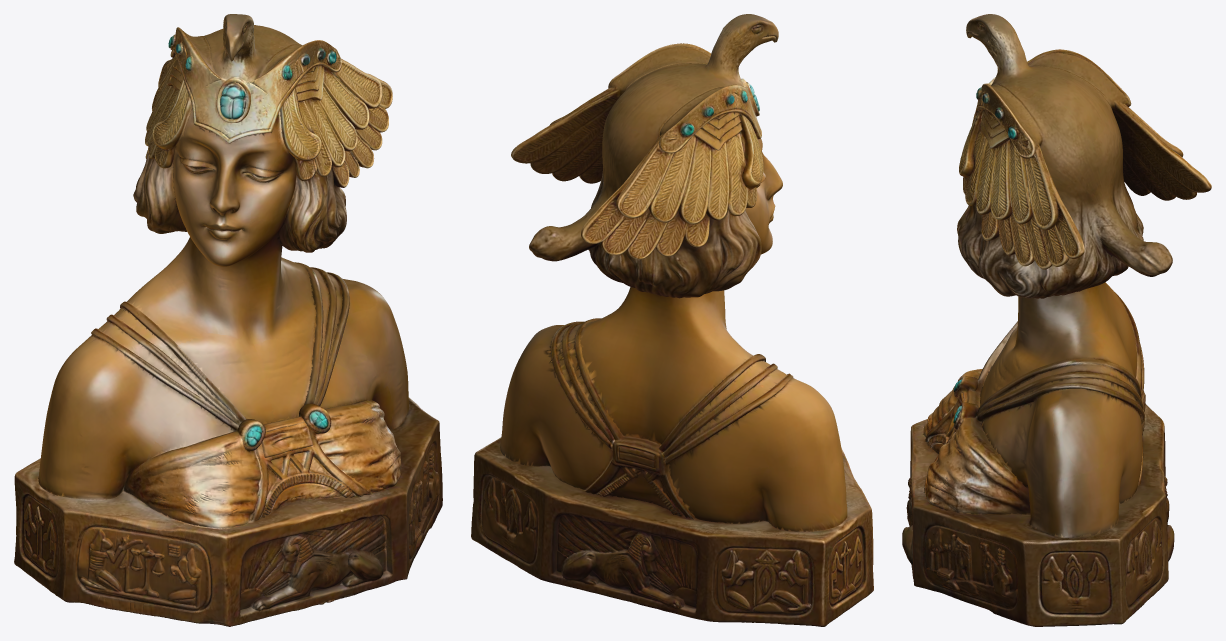
File: cleopatra_art_noveau_sculpture.glb
The picture shows the model from 3 angles, left to right: view 1: azimuth 30°, elevation 25°; view 2: azimuth 150°, elevation 25°; view 3: azimuth 270°, elevation 25°; orthographic projection. The views are drawn at different scales.
Parts seen in each view (by area): view 1: Object_4; view 2: Object_4; view 3: Object_4.
Part boxes in pixels (bbox=[...]): Object_4: bbox=[14, 14, 442, 626]; Object_4: bbox=[471, 14, 873, 626]; Object_4: bbox=[902, 14, 1211, 626].
Bounding box in the file's own units: 0.692 × 0.979 × 0.5331.
Materials: 1 (1 with a texture image).
